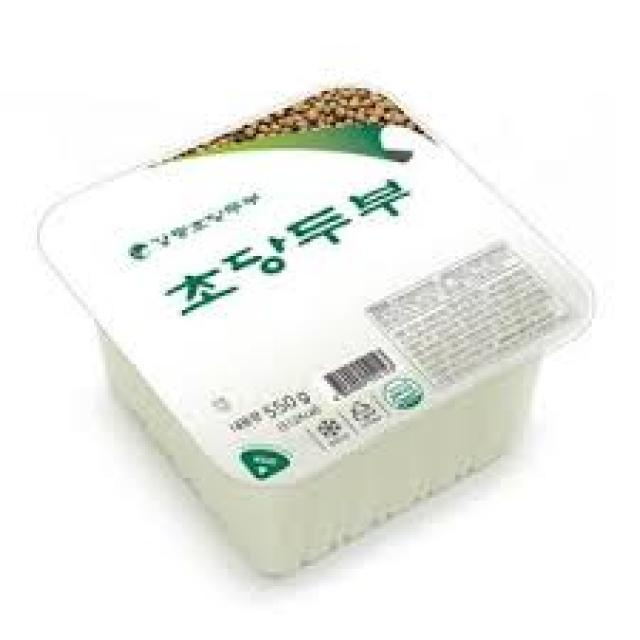tofu: (14, 60, 619, 569)
